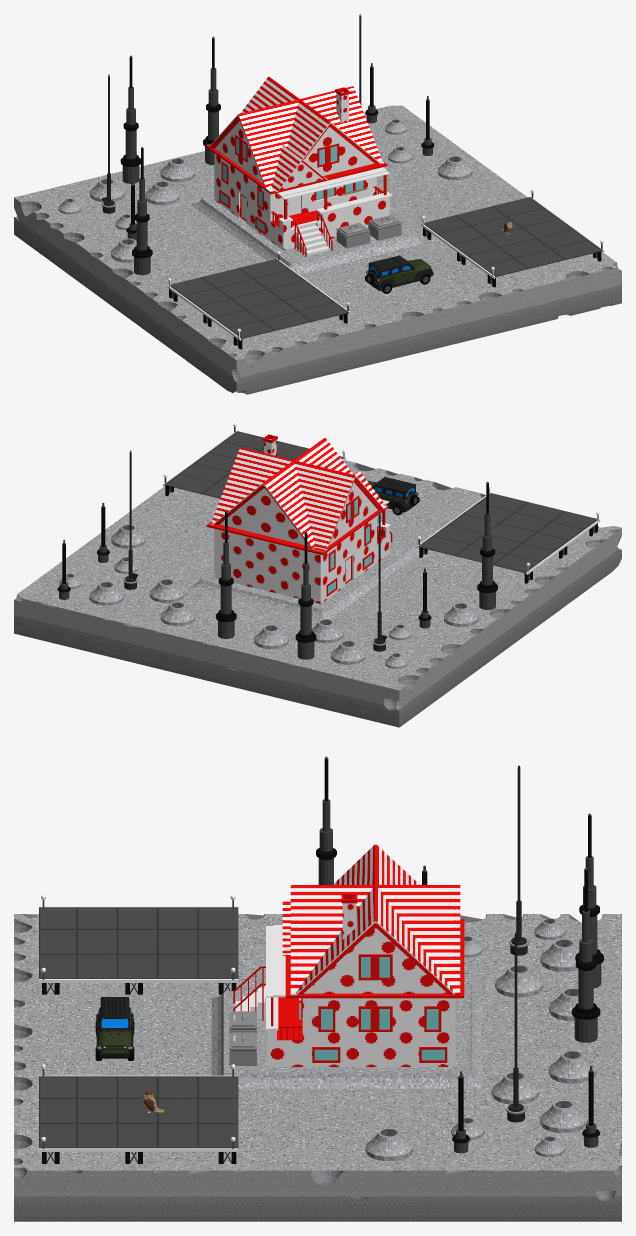
3 views of the same model, one above another, from view 1: azimuth 30°, elevation 25°; view 2: azimuth 150°, elevation 25°; view 3: azimuth 270°, elevation 25° (orthographic). The views are drawn at different scales.
Parts seen in each view (by area): view 1: Cube.027, Cube.196, Cube.025, Cube.026, Cube.028, VEHICLES_JEEP, Cylinder.020, Cylinder.021, Cylinder.017, Cube.029, Cube.030, Cylinder.027 (+3 smaller); view 2: Cube.027, Cube.196, Cube.025, Cube.028, Cube.026, Cylinder.020, Cylinder.021, Cylinder.017, VEHICLES_JEEP, Cylinder.031, Cylinder.028, Cylinder.029 (+7 smaller); view 3: Cube.027, Cube.196, Cube.025, Cube.026, Cube.028, Cylinder.017, VEHICLES_JEEP, Cylinder.020, Cylinder.021, Cylinder.033, Cylinder.031, Cylinder.029 (+9 smaller).
Boxes of the visible parts, box(x1,y1,x2,y2) form: Cube.027: box(14, 105, 621, 394); Cube.196: box(205, 76, 392, 256); Cube.025: box(167, 251, 350, 349); Cube.026: box(421, 189, 604, 287); Cube.028: box(191, 195, 424, 274); VEHICLES_JEEP: box(365, 255, 433, 293); Cylinder.020: box(120, 55, 140, 183); Cylinder.021: box(132, 146, 152, 275); Cylinder.017: box(203, 36, 220, 164); Cube.029: box(336, 222, 370, 248); Cube.030: box(368, 215, 401, 240); Cylinder.027: box(160, 158, 195, 182); Cube.027: box(14, 460, 621, 727); Cube.196: box(206, 434, 392, 603); Cube.025: box(417, 485, 600, 583); Cube.028: box(190, 538, 419, 620); Cube.026: box(163, 423, 346, 498); Cylinder.020: box(295, 531, 316, 659); Cylinder.021: box(477, 481, 497, 609); Cylinder.017: box(216, 510, 236, 638); VEHICLES_JEEP: box(367, 476, 419, 515); Cylinder.031: box(89, 581, 124, 605); Cylinder.028: box(331, 640, 365, 664); Cylinder.029: box(160, 601, 195, 626); Cube.027: box(14, 914, 621, 1221); Cube.196: box(233, 844, 464, 1066); Cube.025: box(39, 895, 238, 994); Cube.026: box(39, 1064, 238, 1163); Cube.028: box(211, 991, 481, 1088); Cylinder.017: box(571, 867, 600, 1042); VEHICLES_JEEP: box(95, 997, 134, 1060); Cylinder.020: box(575, 813, 603, 988); Cylinder.021: box(316, 756, 336, 884); Cylinder.033: box(365, 1128, 413, 1160); Cylinder.031: box(540, 1100, 587, 1132); Cylinder.029: box(548, 1050, 596, 1083).
Size of the model in its own units: 4000 by 1749 by 4000.
28 materials, 6 textured.
